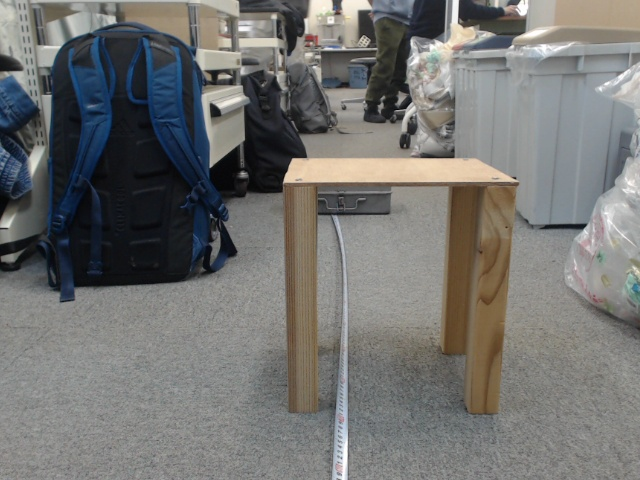desk: (286, 134, 515, 410)
